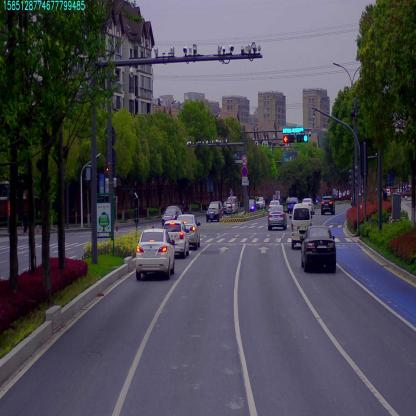traffic-light: (283, 126, 303, 134), (298, 134, 308, 141), (284, 136, 294, 142)
